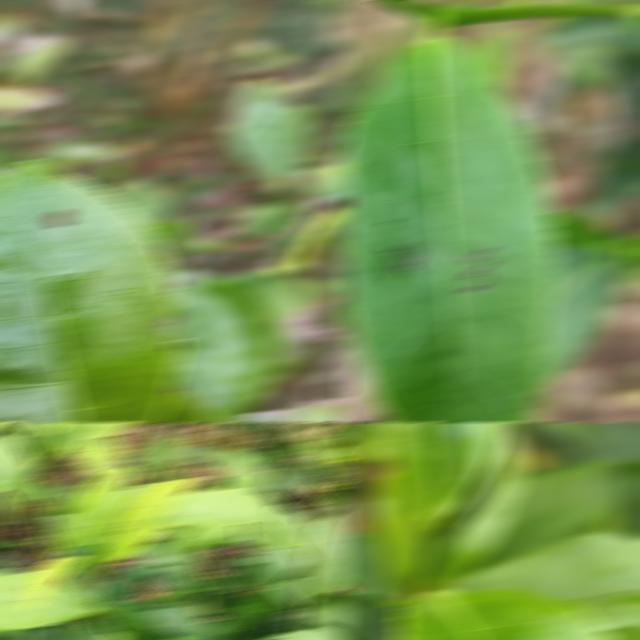Leaf: (340, 23, 559, 422), (0, 160, 184, 422), (468, 459, 639, 569), (450, 532, 640, 628), (162, 270, 278, 422), (536, 240, 628, 384), (371, 422, 487, 526), (223, 78, 312, 189), (93, 478, 199, 565), (149, 488, 300, 548), (0, 571, 101, 629), (130, 529, 202, 604), (300, 509, 350, 603), (70, 466, 134, 537), (38, 422, 135, 460), (141, 604, 235, 640), (221, 397, 350, 422), (23, 556, 83, 609), (224, 589, 297, 631), (0, 435, 38, 505), (97, 560, 164, 599), (100, 598, 162, 640), (0, 435, 37, 504), (524, 422, 603, 451), (218, 446, 268, 491), (63, 438, 121, 474), (262, 459, 313, 498), (299, 592, 350, 629), (291, 425, 332, 470), (149, 431, 186, 479), (0, 85, 59, 114), (132, 443, 160, 483), (177, 445, 226, 465), (64, 622, 114, 640), (269, 578, 304, 603)
